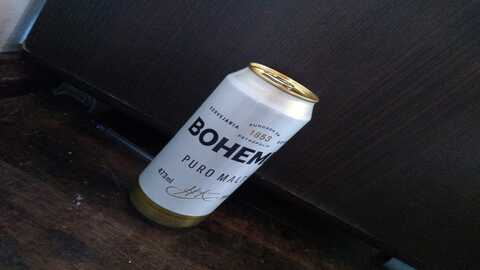bohemia: (133, 64, 316, 220)
